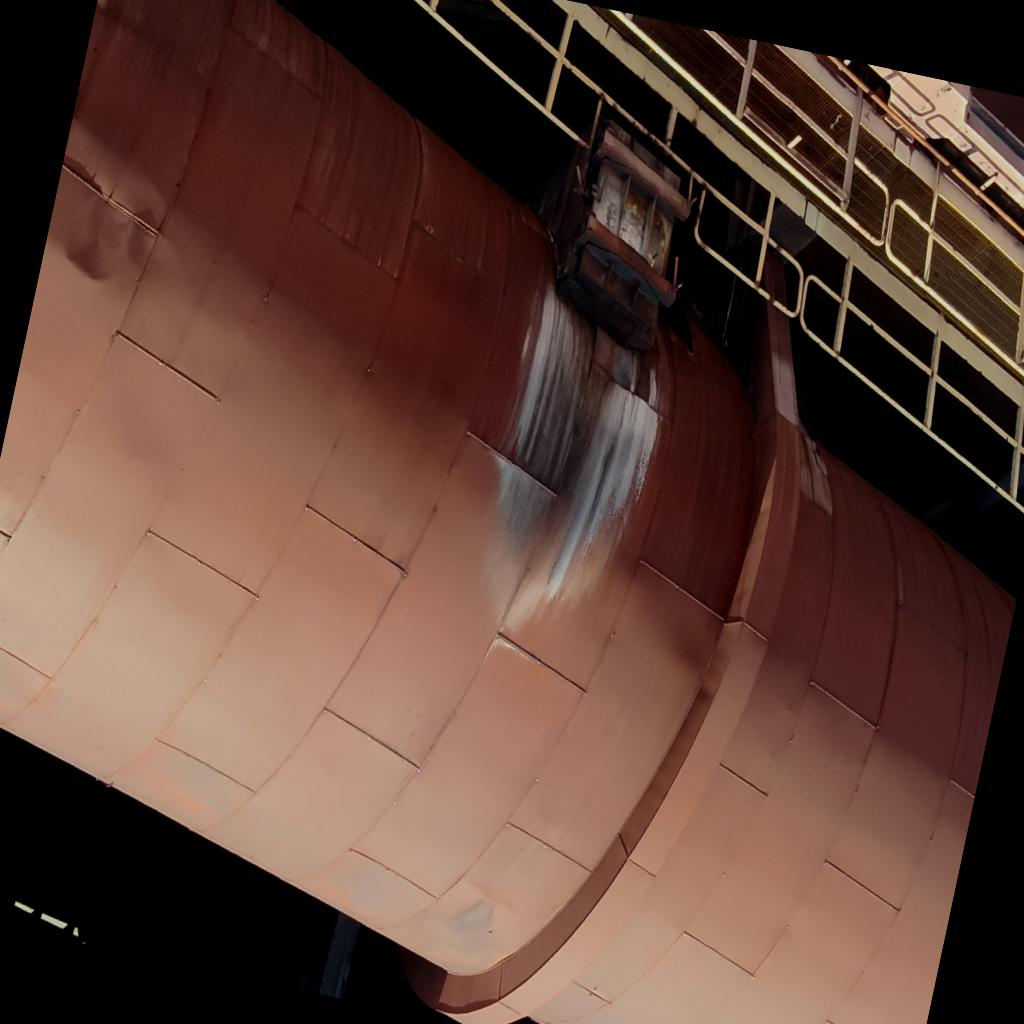Failures: (516, 225, 737, 603)
